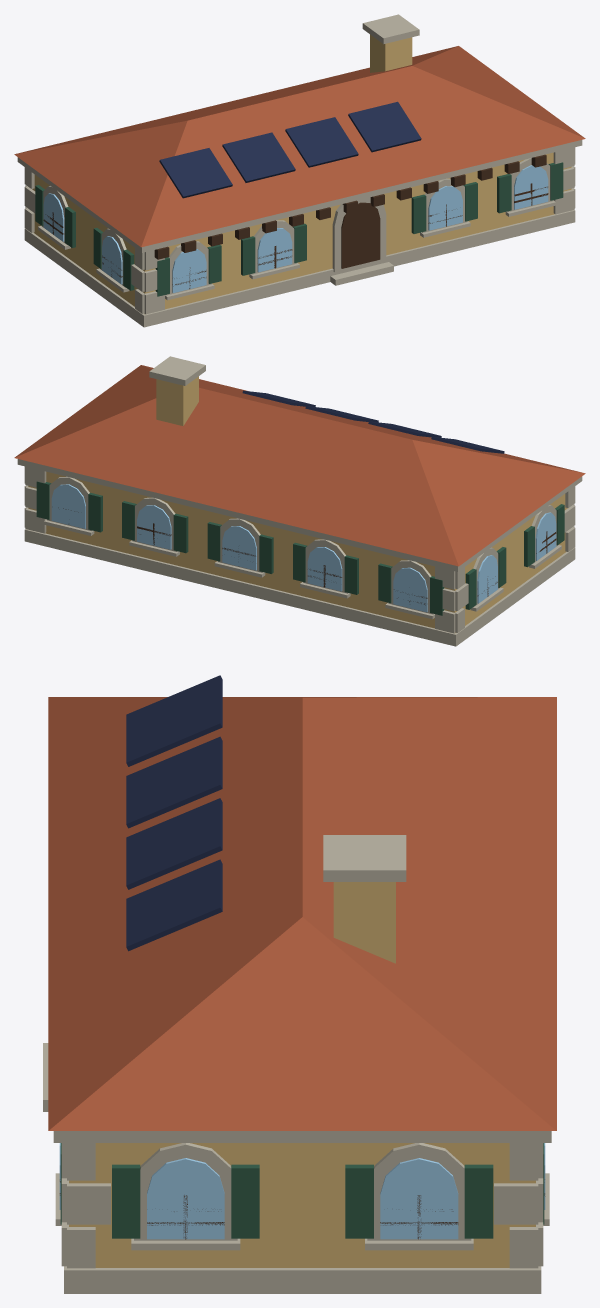
The model's file is house-2x1-1f-tuscan-a-solar.glb.
3 views of the same model, one above another, from view 1: azimuth 30°, elevation 25°; view 2: azimuth 150°, elevation 25°; view 3: azimuth 270°, elevation 25° (orthographic). The views are drawn at different scales.
Visible parts, largest first — view 1: house-2x1-1f-tuscan-a-solar; view 2: house-2x1-1f-tuscan-a-solar; view 3: house-2x1-1f-tuscan-a-solar.
Part boxes in pixels (x1,y1,x2,y2): house-2x1-1f-tuscan-a-solar: (14, 14, 585, 327); house-2x1-1f-tuscan-a-solar: (14, 356, 585, 646); house-2x1-1f-tuscan-a-solar: (43, 675, 556, 1293).
Bounding box in the file's own units: 1.98 × 0.712 × 0.99.
Materials: 1 (1 with a texture image).
